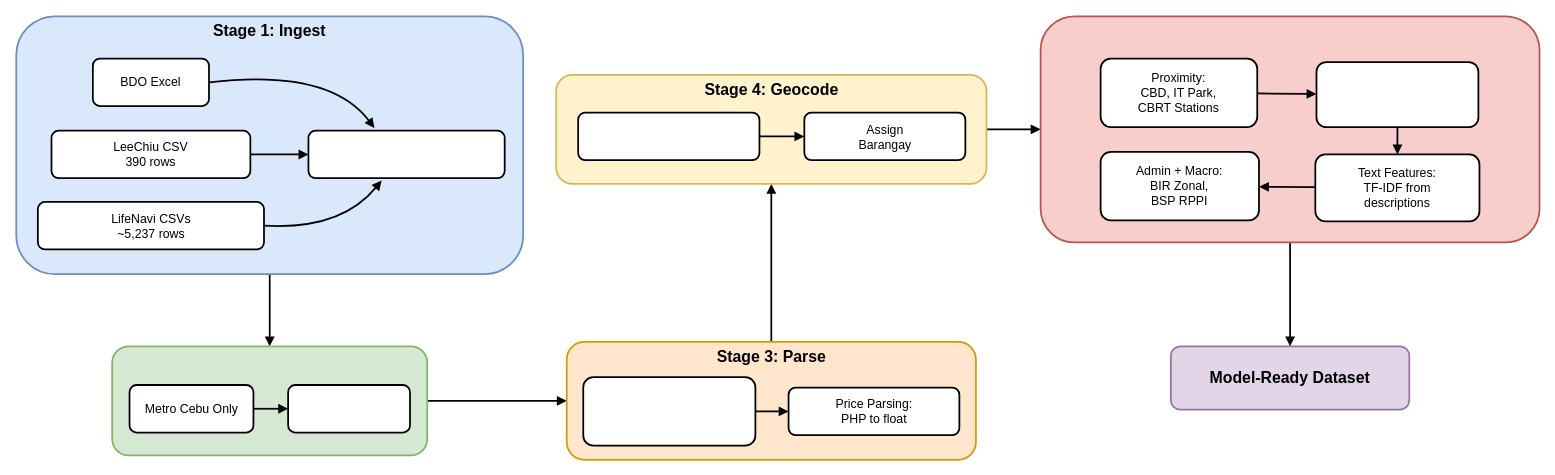
Image size: 1555x475. Some labels were removed from this diagram. Each missing label, with the box of its shape:
Address to Latitude/Longitude: (577, 111, 760, 161)
Amenity Score: OSM POIs within 1km: (1315, 61, 1479, 128)
Merge and Standardize: (307, 129, 505, 179)
Regex Extract: BR, TB, Area, Parking, Type: (582, 376, 756, 446)
Residential Only: (287, 384, 410, 433)
Stage 2: Filter: (111, 345, 428, 456)
Stage 5: Augment: (1039, 15, 1540, 243)
